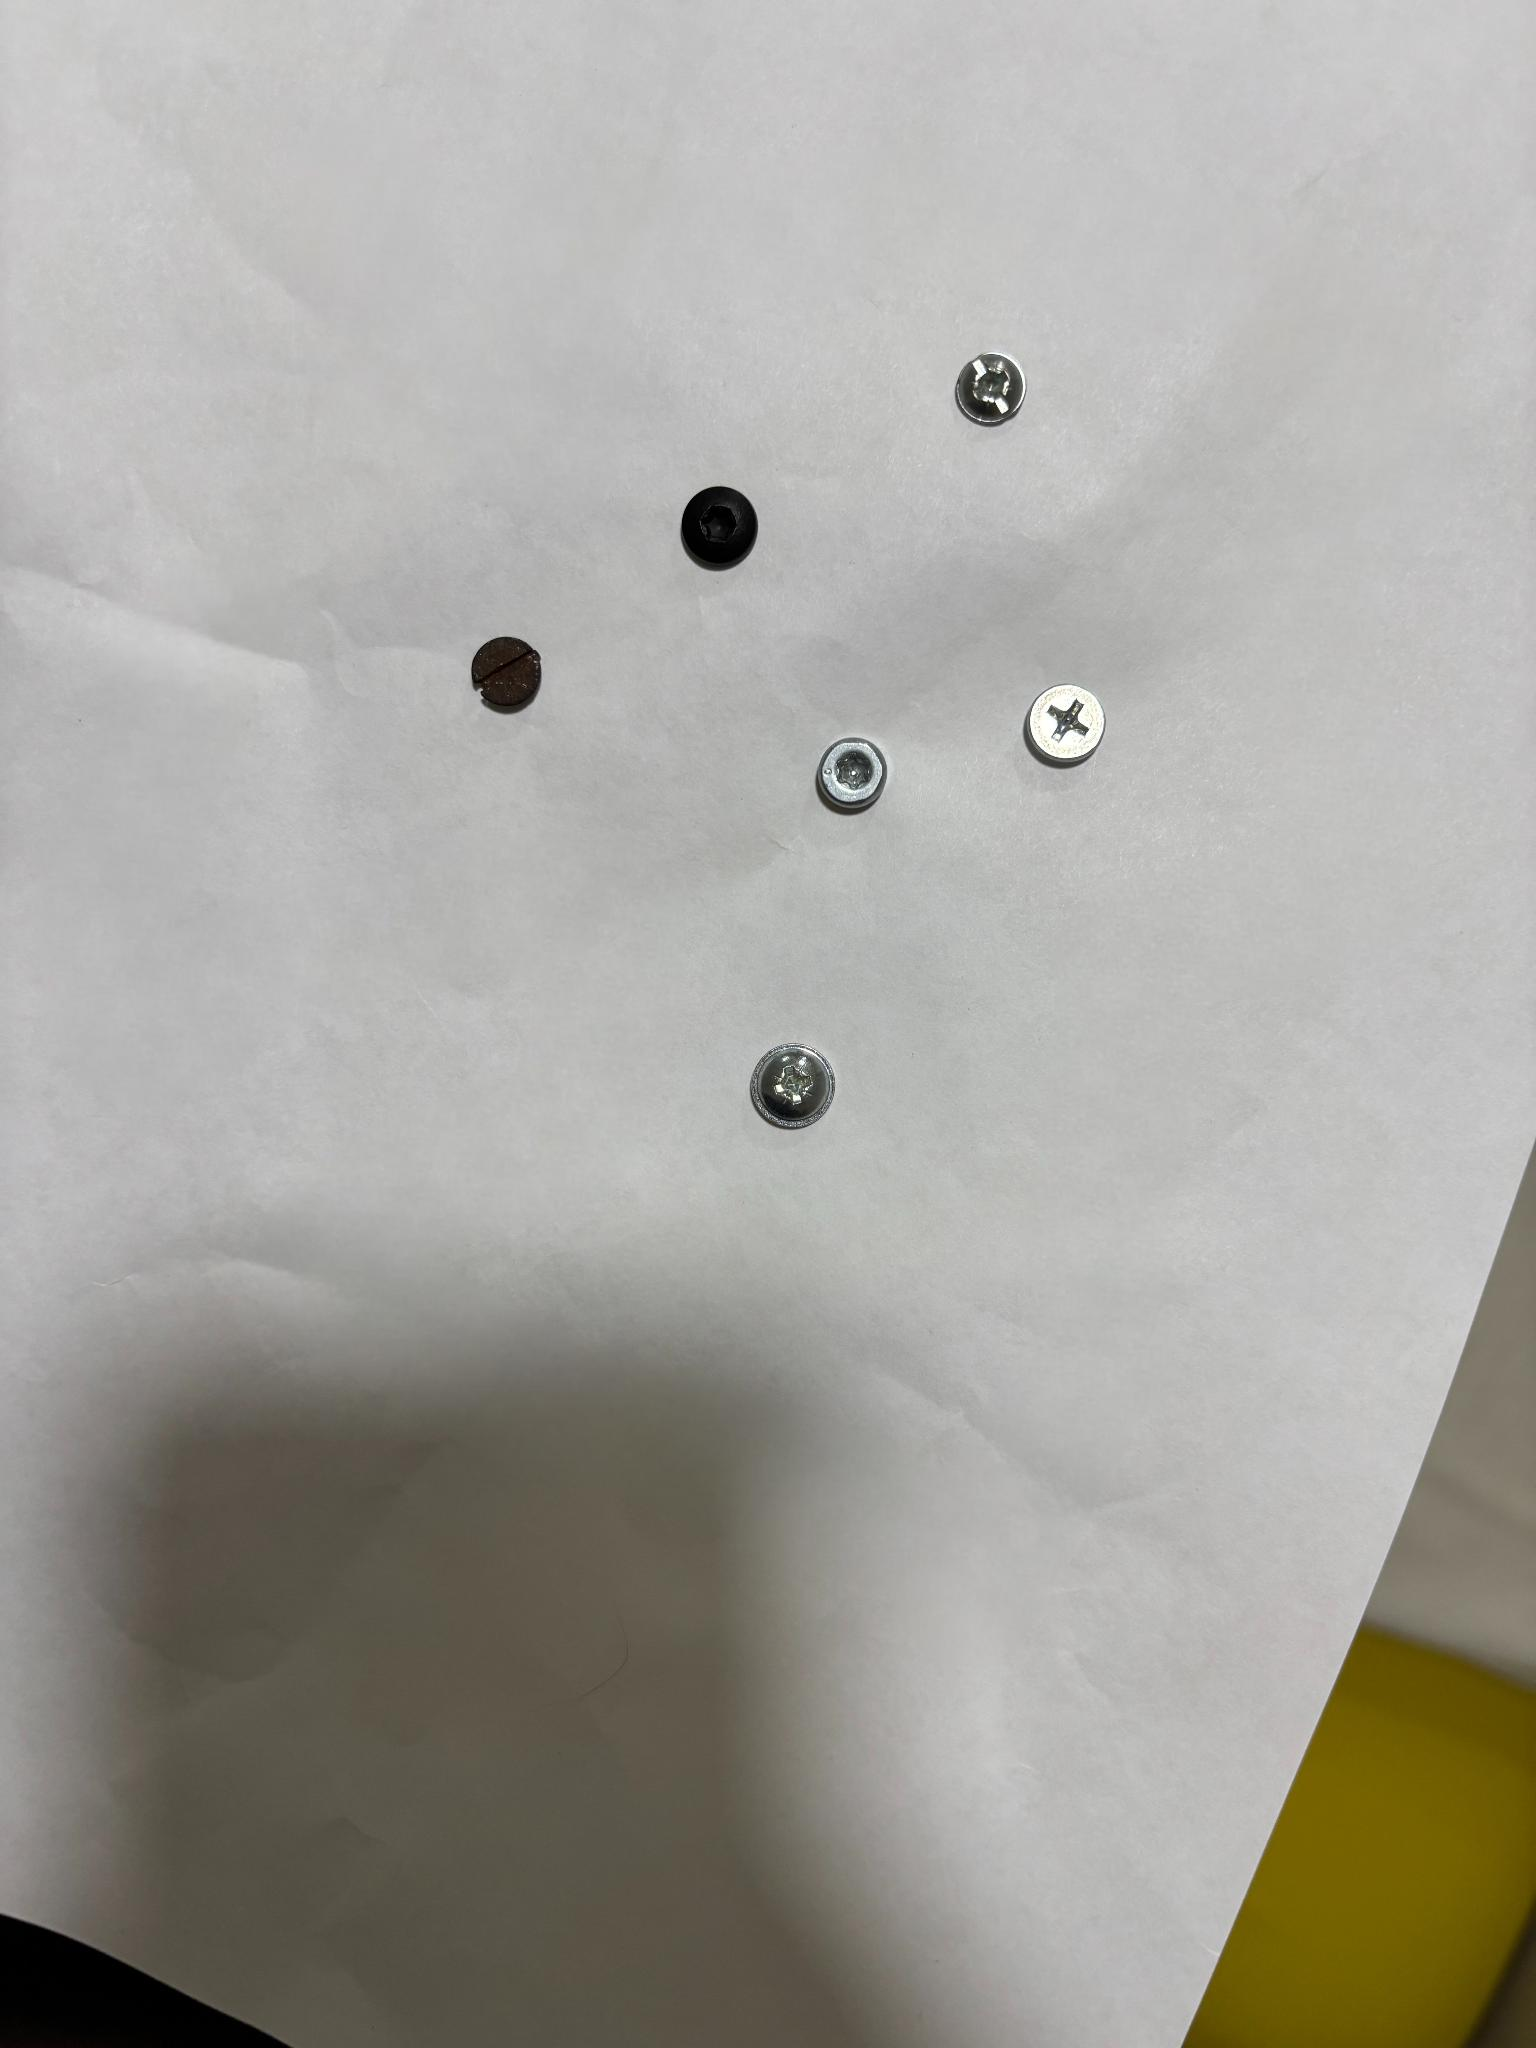H: (679, 485, 757, 566)
PH: (1025, 685, 1104, 764)
PZ: (750, 1045, 834, 1127), (955, 353, 1025, 426)
SL: (471, 637, 542, 711)
T: (818, 739, 886, 810)
